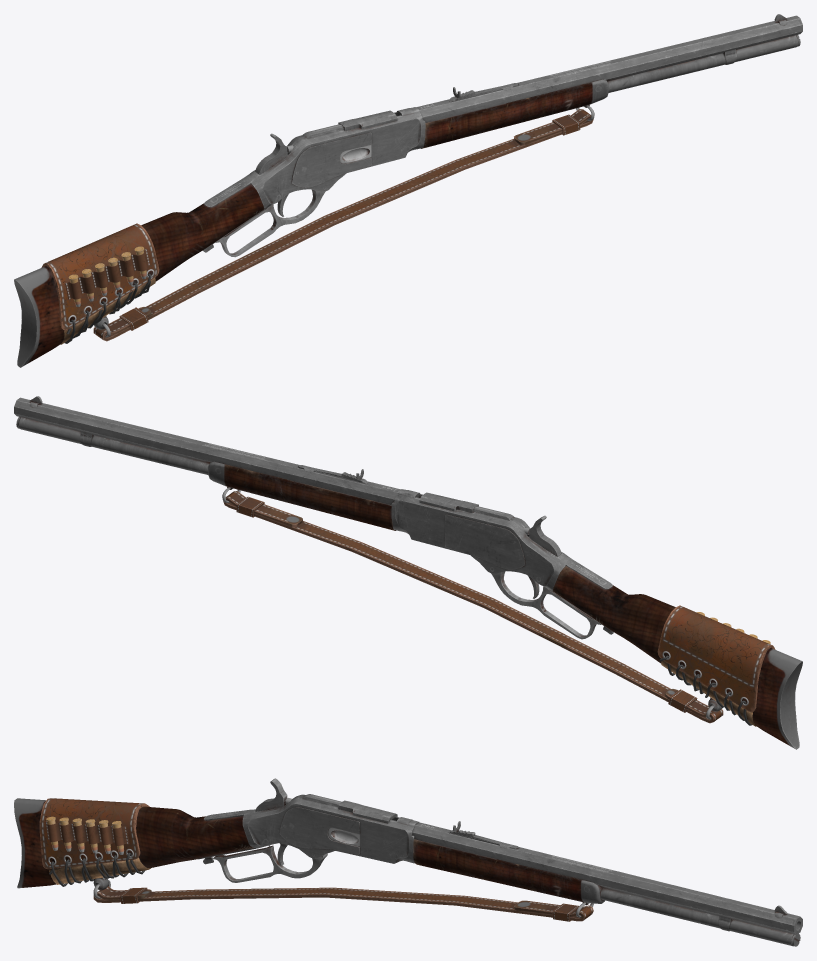
File: carabina_winchester_1873.glb
The picture shows the model from 3 angles, top to bottom: view 1: azimuth 30°, elevation 25°; view 2: azimuth 150°, elevation 25°; view 3: azimuth 330°, elevation 25°; orthographic projection.
Parts seen in each view (by area): view 1: barrel_low, leather_low, lever_low, bullets_low, w_low; view 2: barrel_low, leather_low, lever_low, w_low; view 3: barrel_low, leather_low, lever_low, bullets_low, w_low, trigger2_low.
Part boxes in pixels (x1,y1,x2,y2): barrel_low: (14,14,802,367); leather_low: (41,105,594,344); lever_low: (215,189,325,257); bullets_low: (68,246,146,306); w_low: (338,110,397,130); barrel_low: (14,396,802,749); leather_low: (222,487,775,726); lever_low: (491,571,601,639); w_low: (419,492,478,512); barrel_low: (14,794,802,946); leather_low: (39,798,593,921); lever_low: (213,845,327,882); bullets_low: (46,816,124,854); w_low: (338,800,397,823); trigger2_low: (255,778,287,811).
Size of the model in its own units: 2 by 0.417 by 0.1141.
2 materials, 2 textured.
